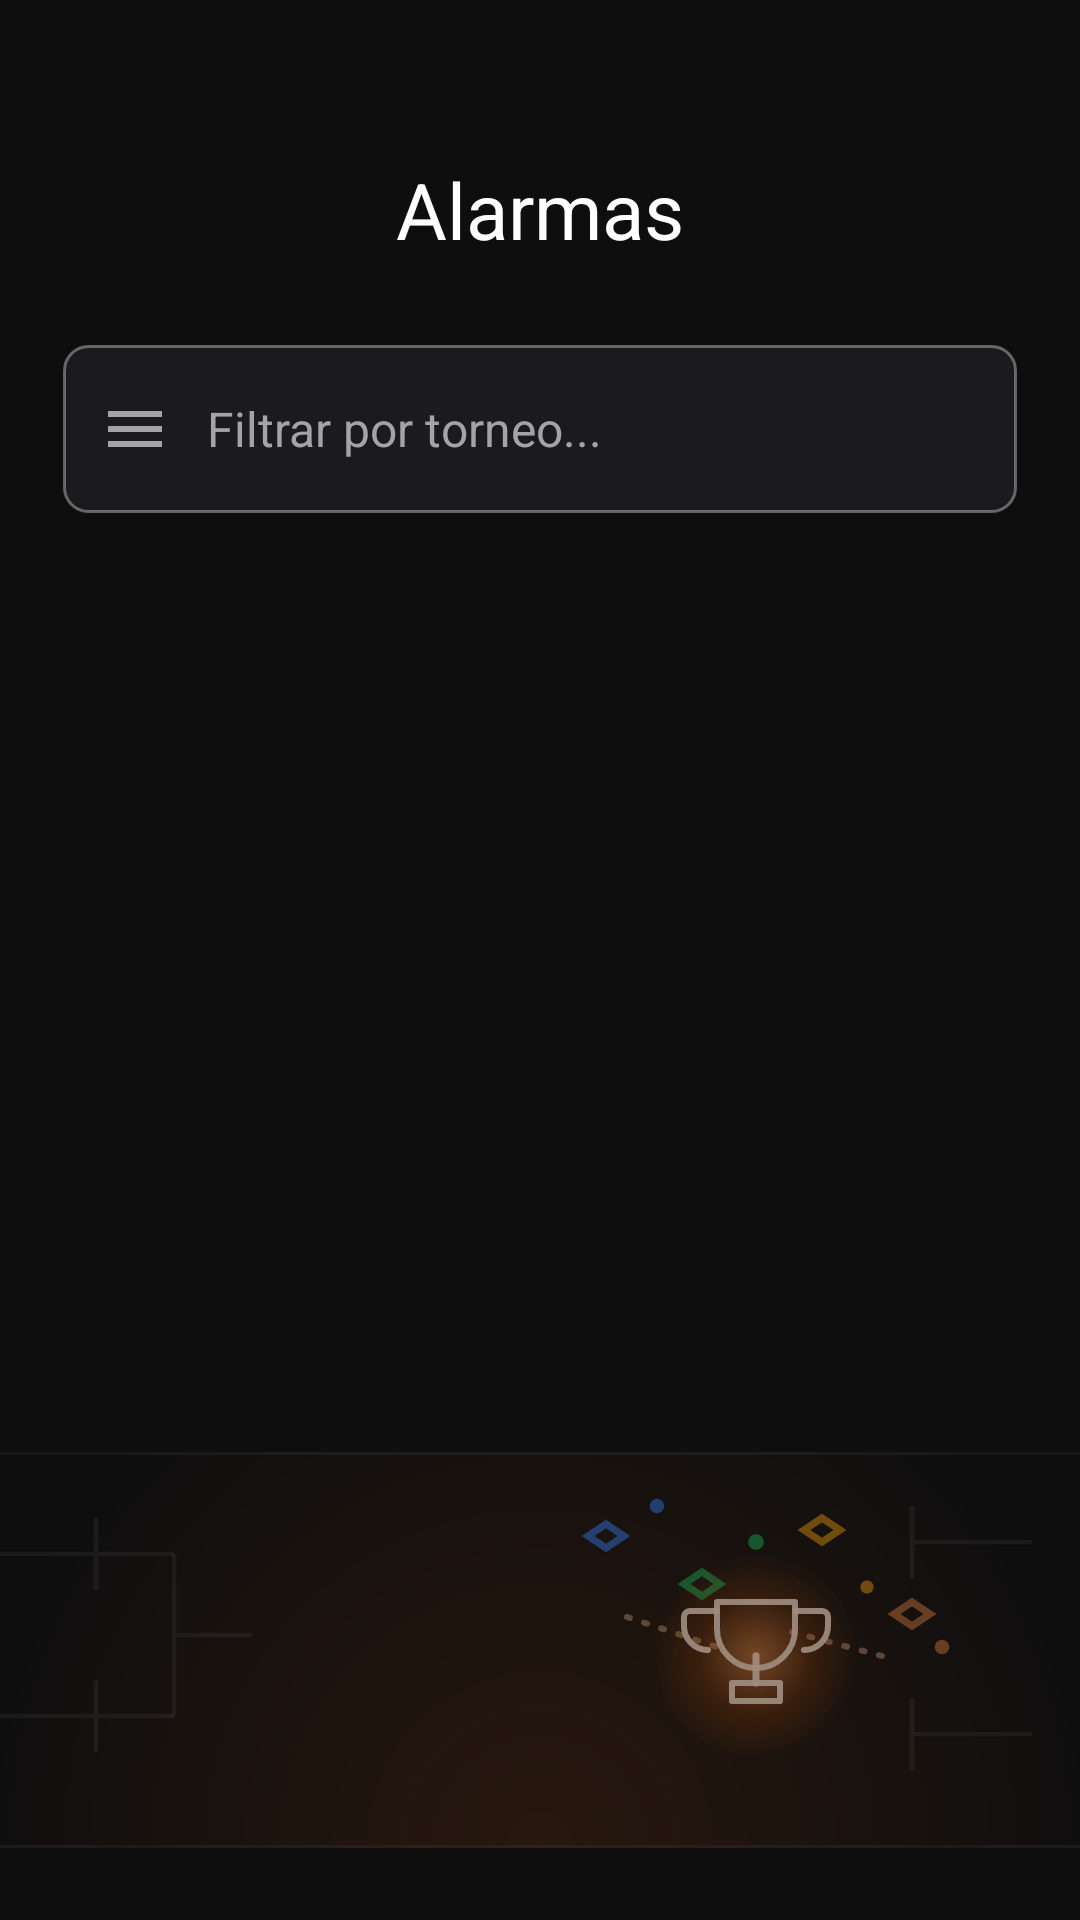

Where icons sit on this 1080*1920 app screen, as (x1, y1, x2, y2):
menu: (108, 411, 162, 447)
